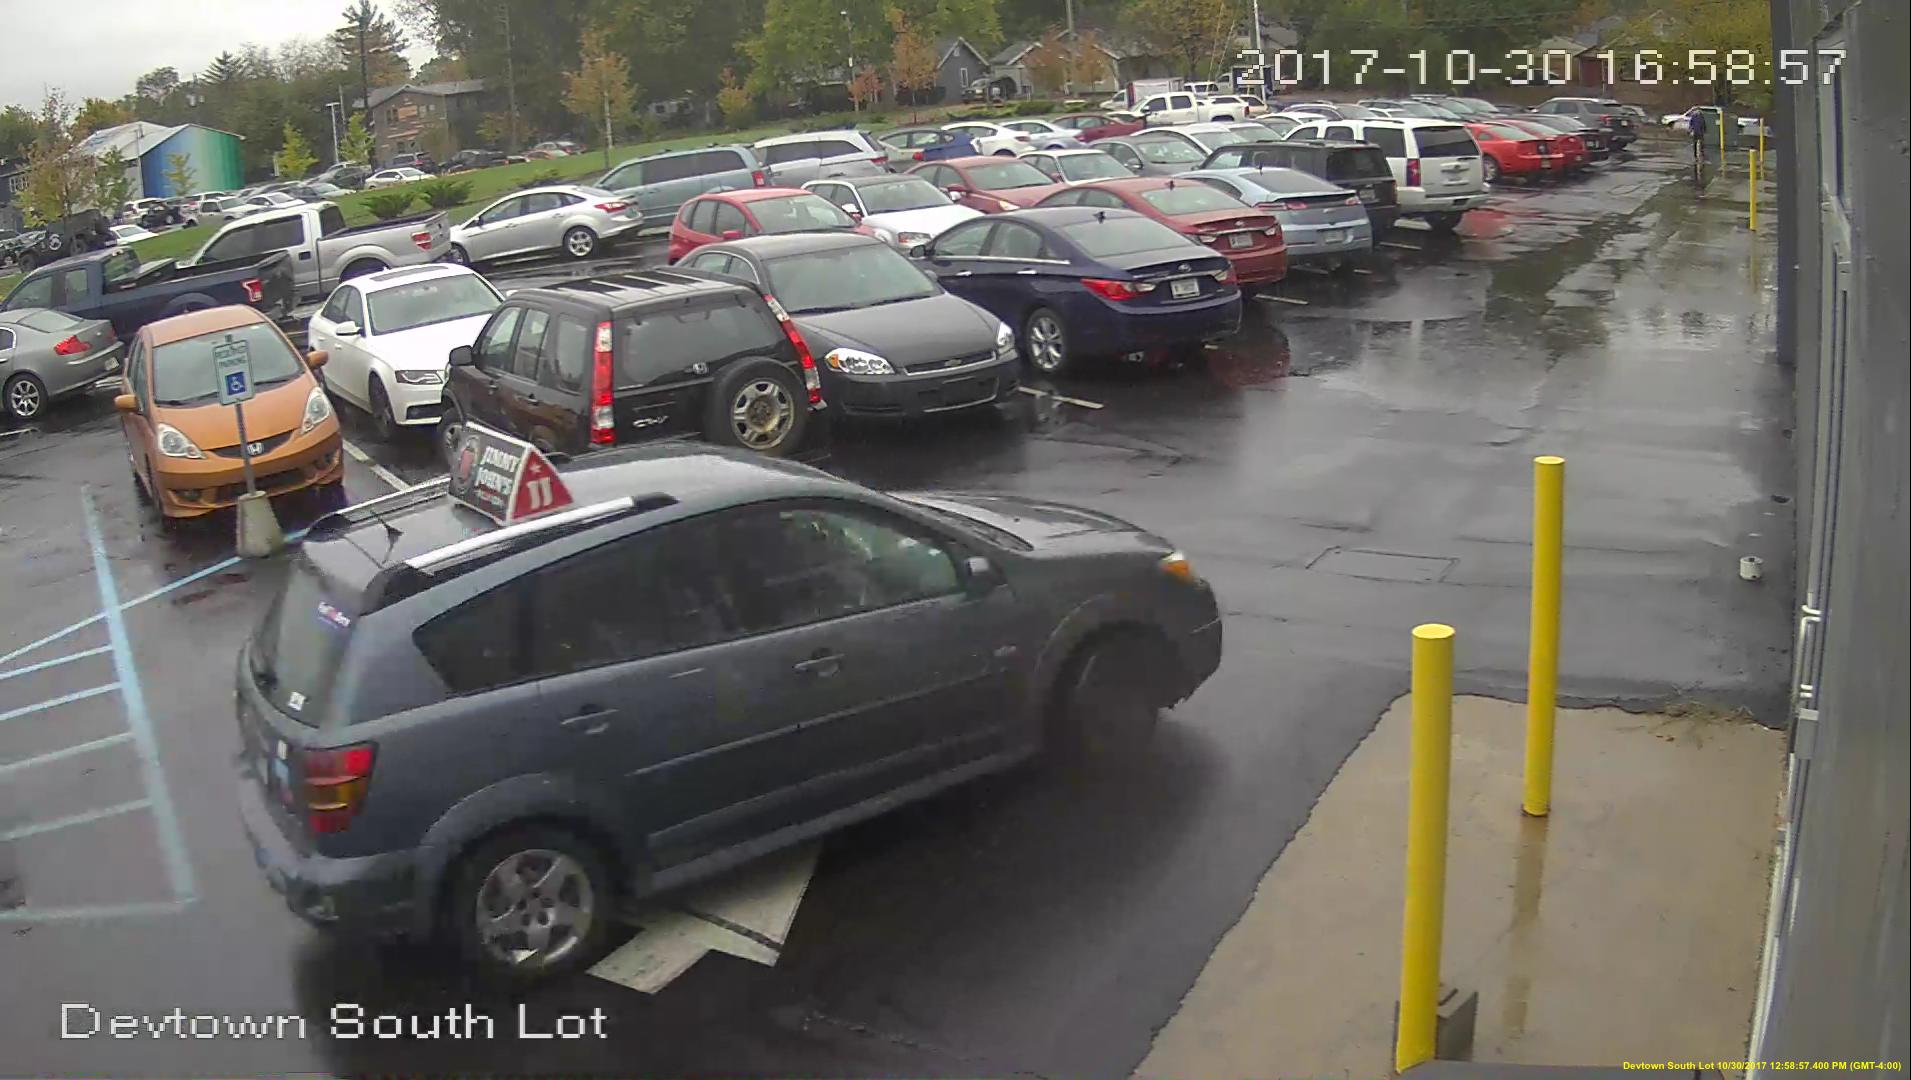jimmy_johns: (444, 416, 570, 528)
